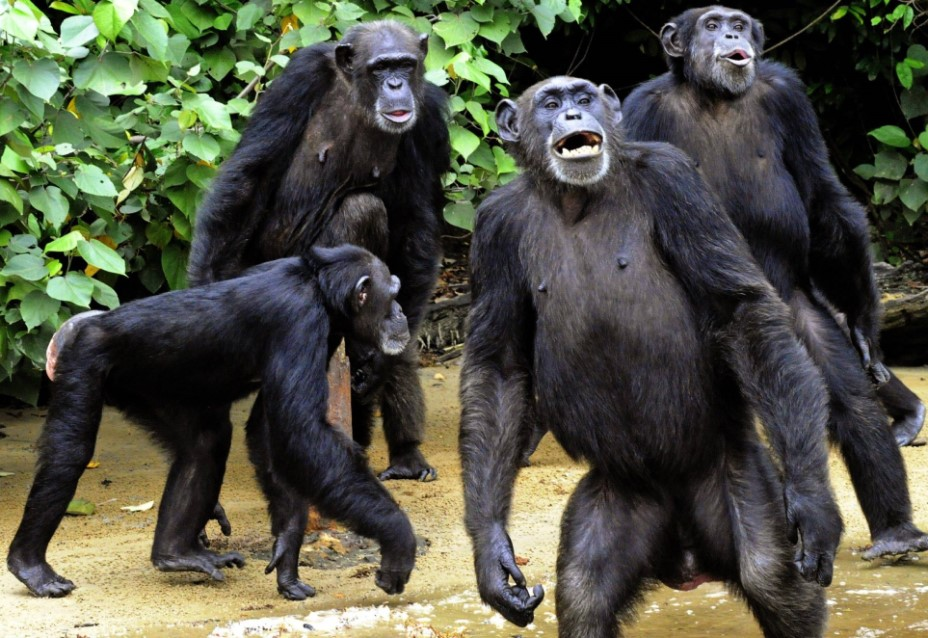Chimpanzee: (52, 249, 425, 559), (492, 97, 700, 538), (197, 24, 490, 254), (652, 8, 851, 307)
